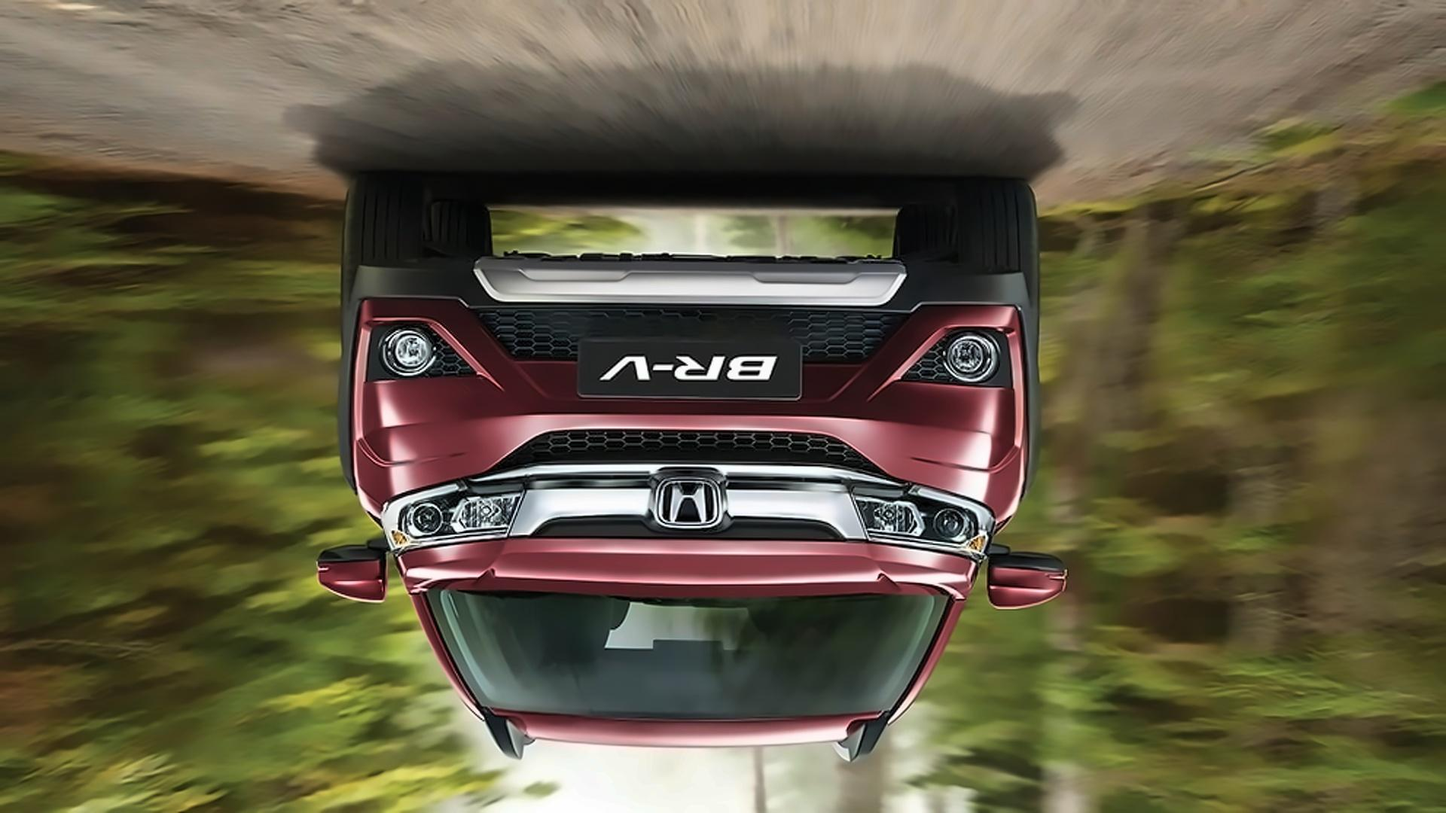Car hood: (387, 538, 987, 604)
Front bumper: (327, 246, 1048, 470)
Headlight - -L-: (372, 467, 536, 565)
Headlight - -R-: (836, 471, 996, 567)
Side mirror - -L-: (304, 530, 400, 616)
Side mirror - -R-: (970, 544, 1080, 622)
